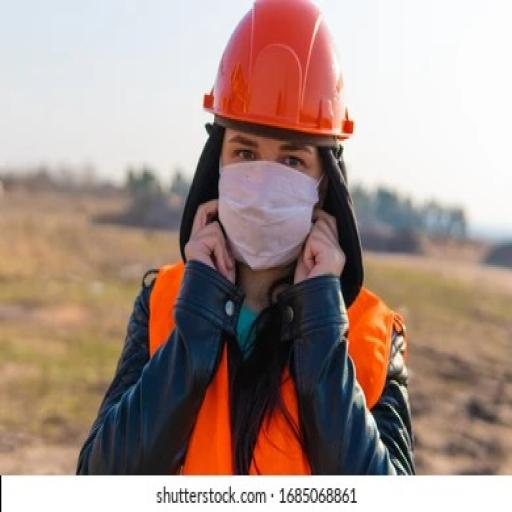mask: (220, 156, 310, 269)
